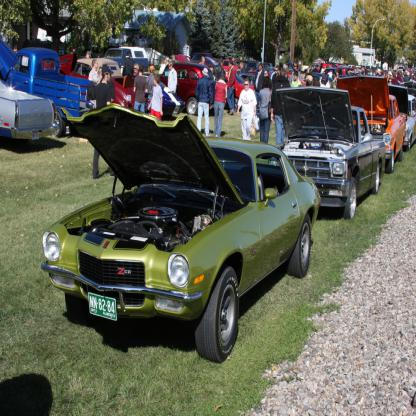Car: (42, 76, 416, 364), (0, 35, 361, 143)
